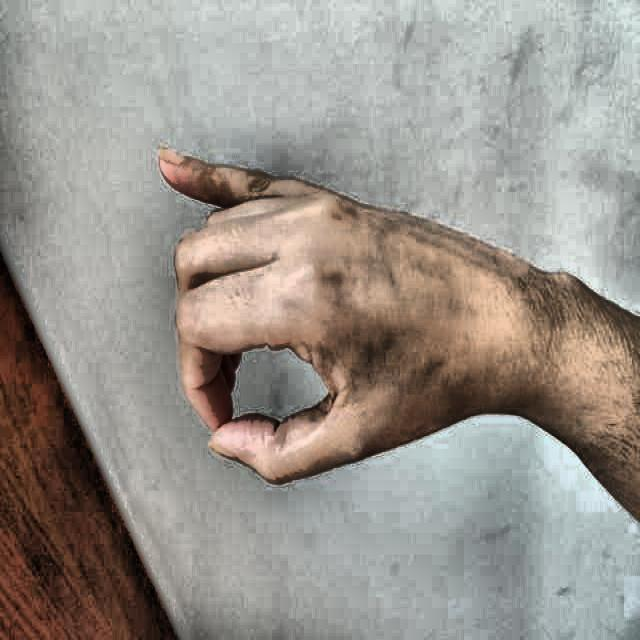Ou: (136, 120, 529, 520)
